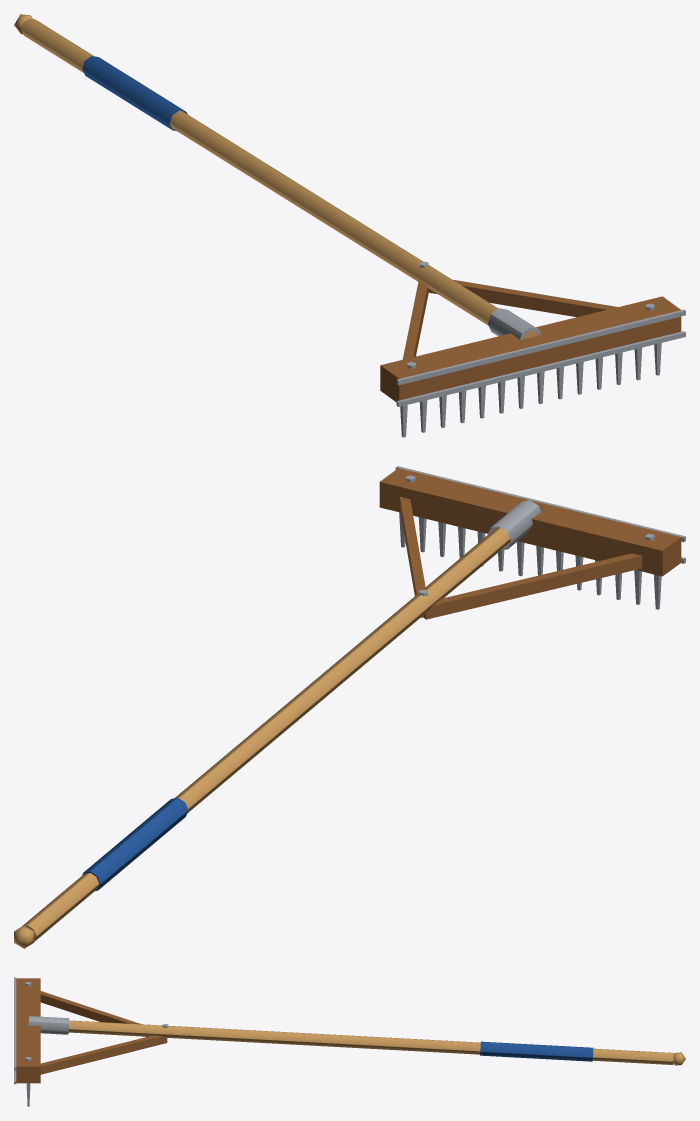
Rendered from bunker_rake.glb.
3 views of the same model, one above another, from view 1: azimuth 30°, elevation 25°; view 2: azimuth 150°, elevation 25°; view 3: azimuth 270°, elevation 25° (orthographic). The views are drawn at different scales.
Parts seen in each view (by area): view 1: bunker_rake_mesh; view 2: bunker_rake_mesh; view 3: bunker_rake_mesh.
Boxes of the visible parts, left/top/right/bottom form: bunker_rake_mesh: left=14, top=14, right=685, bottom=437; bunker_rake_mesh: left=14, top=466, right=685, bottom=948; bunker_rake_mesh: left=14, top=977, right=685, bottom=1106.
Bounding box in the file's own units: 0.53 × 0.137 × 1.67.
